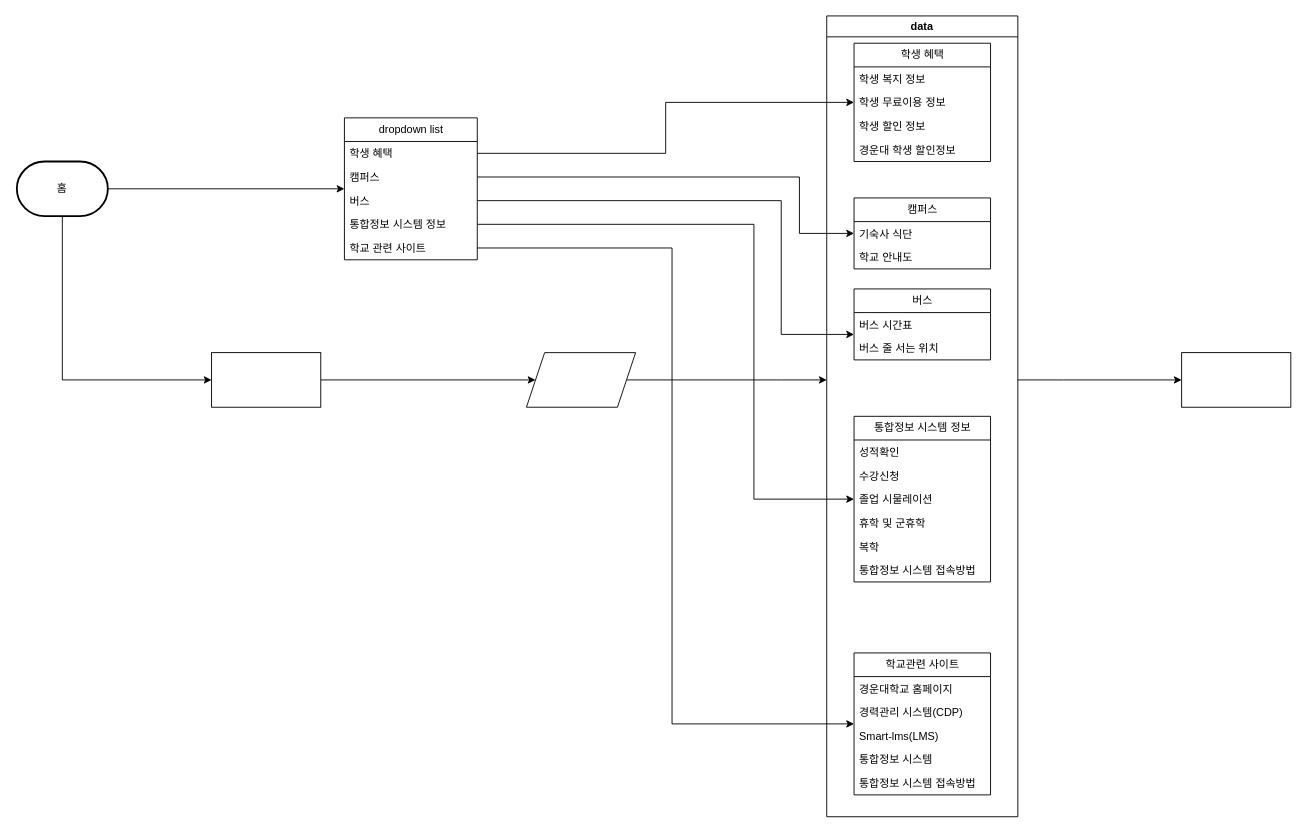
The diagram is 1307 pixels wide and 833 high, and some of its shapes have lost their labels. Here are the shapes that lost their labels. From the top down, the centre of each, then its label:
At point 266,379: "검색".
At point 581,379: "검색어".
At point 1236,379: "검색결과".
